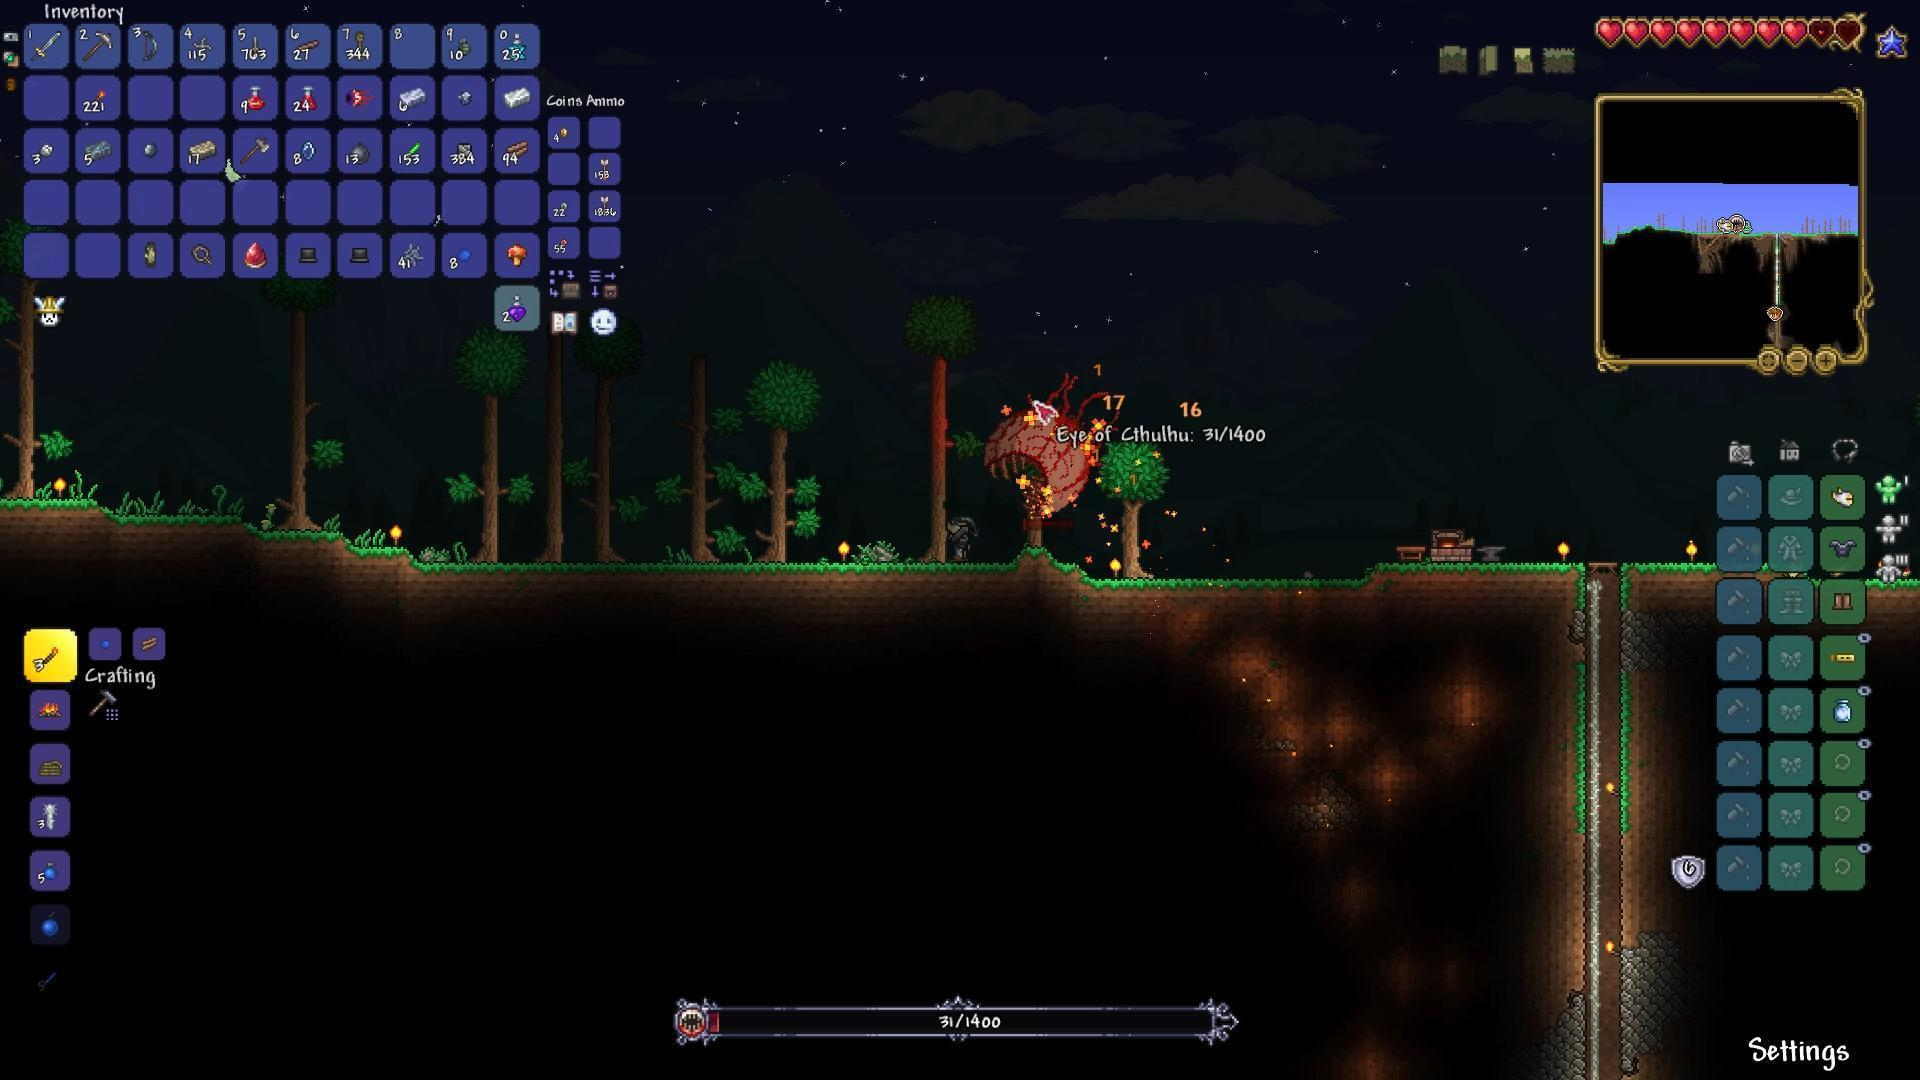anvil: (1473, 539, 1509, 560)
bomb: (349, 138, 372, 167)
bow: (138, 29, 160, 62)
breastplate: (1825, 538, 1861, 559)
cobwebI: (402, 237, 425, 272)
furnace: (1428, 522, 1477, 559)
gel: (458, 244, 475, 265)
glowstick: (404, 138, 425, 162)
grenade: (458, 37, 472, 59)
heart: (1702, 17, 1727, 47), (1730, 17, 1754, 47)
helmet: (1829, 487, 1857, 508)
legs: (1830, 589, 1858, 615)
lens: (299, 141, 319, 162)
pickaxe: (82, 32, 113, 63)
platform: (294, 37, 323, 53)
rope: (352, 28, 367, 58), (42, 799, 55, 829)
shuriken: (193, 36, 211, 54), (251, 34, 262, 58)
